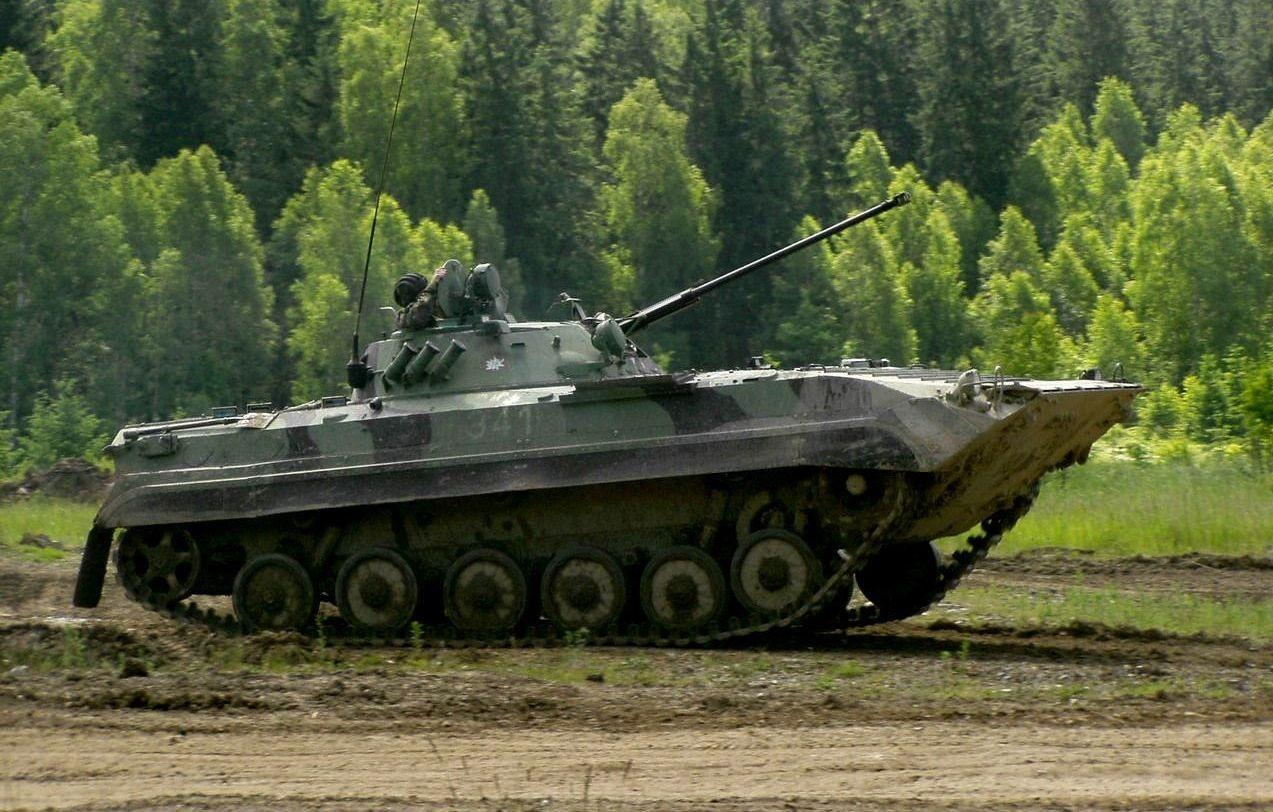tank: (76, 212, 1134, 654)
